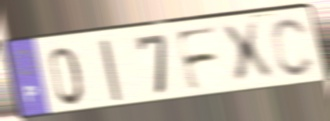0: (48, 45, 86, 107)
7: (134, 32, 171, 97)
C: (269, 16, 318, 80)
F: (173, 24, 221, 94)
I: (96, 37, 125, 104)
X: (218, 19, 278, 88)
